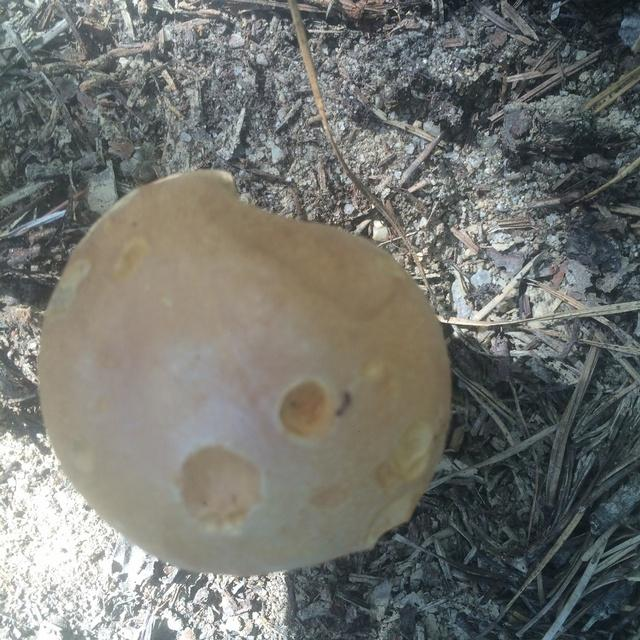Non-edible Mushroom: (35, 167, 454, 577)
